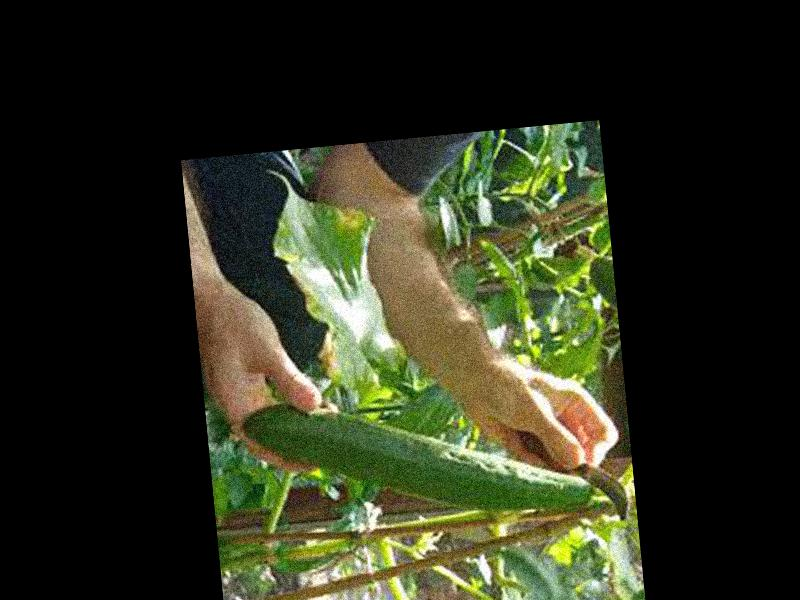Cucumber: (241, 376, 592, 540)
